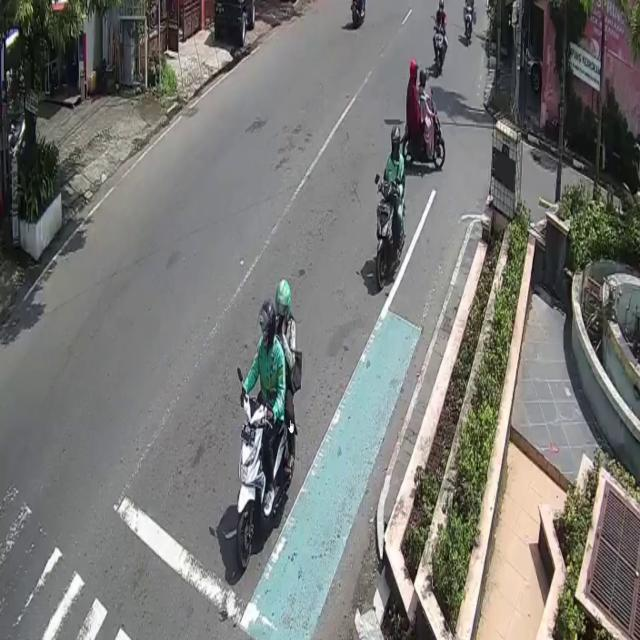bus: (236, 395, 296, 572), (402, 96, 446, 177), (378, 180, 406, 287), (433, 20, 447, 74)
